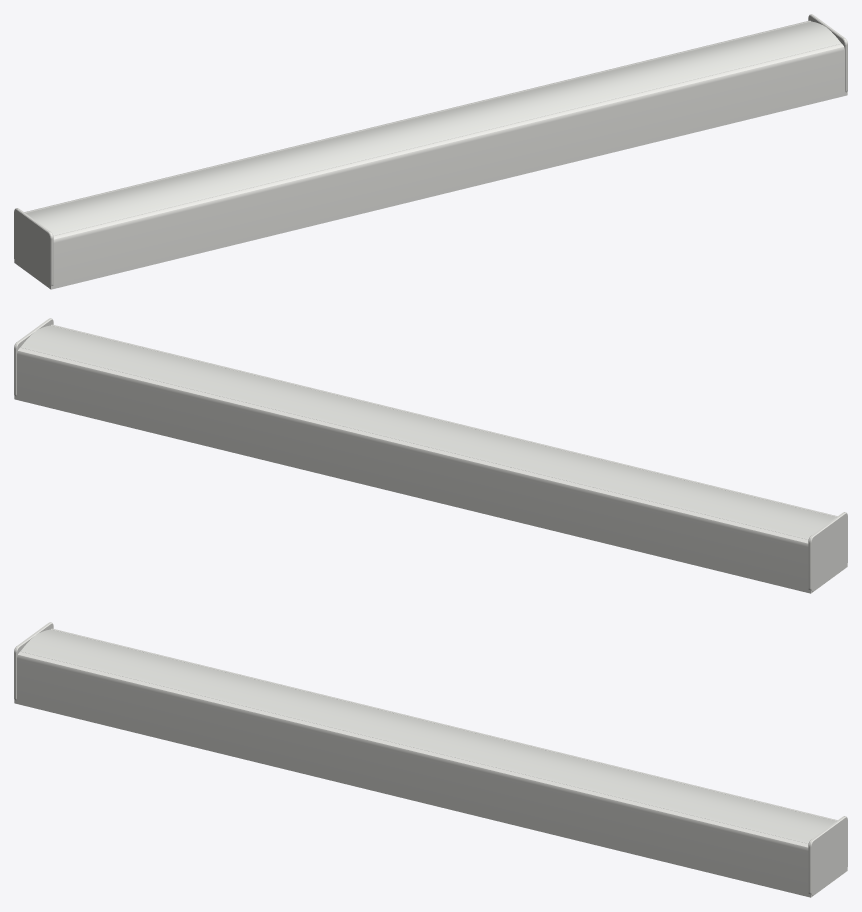
Rendered from off_both.obj.
3 views of the same model, one above another, from view 1: azimuth 30°, elevation 25°; view 2: azimuth 150°, elevation 25°; view 3: azimuth 330°, elevation 25° (orthographic).
Visible parts, largest first — view 1: housing, lens_off, cap_neg; view 2: housing, lens_off, cap_neg; view 3: housing, lens_off, cap_pos.
Part boxes in pixels (bbox=[...]): housing: bbox=[14, 20, 847, 289]; lens_off: bbox=[26, 21, 841, 235]; cap_neg: bbox=[14, 208, 53, 287]; housing: bbox=[14, 324, 847, 593]; lens_off: bbox=[20, 325, 835, 539]; cap_neg: bbox=[808, 512, 847, 591]; housing: bbox=[14, 628, 847, 897]; lens_off: bbox=[20, 629, 835, 843]; cap_pos: bbox=[808, 816, 847, 895].
Bounding box in the file's own units: 1 × 0.0668 × 0.0812.
